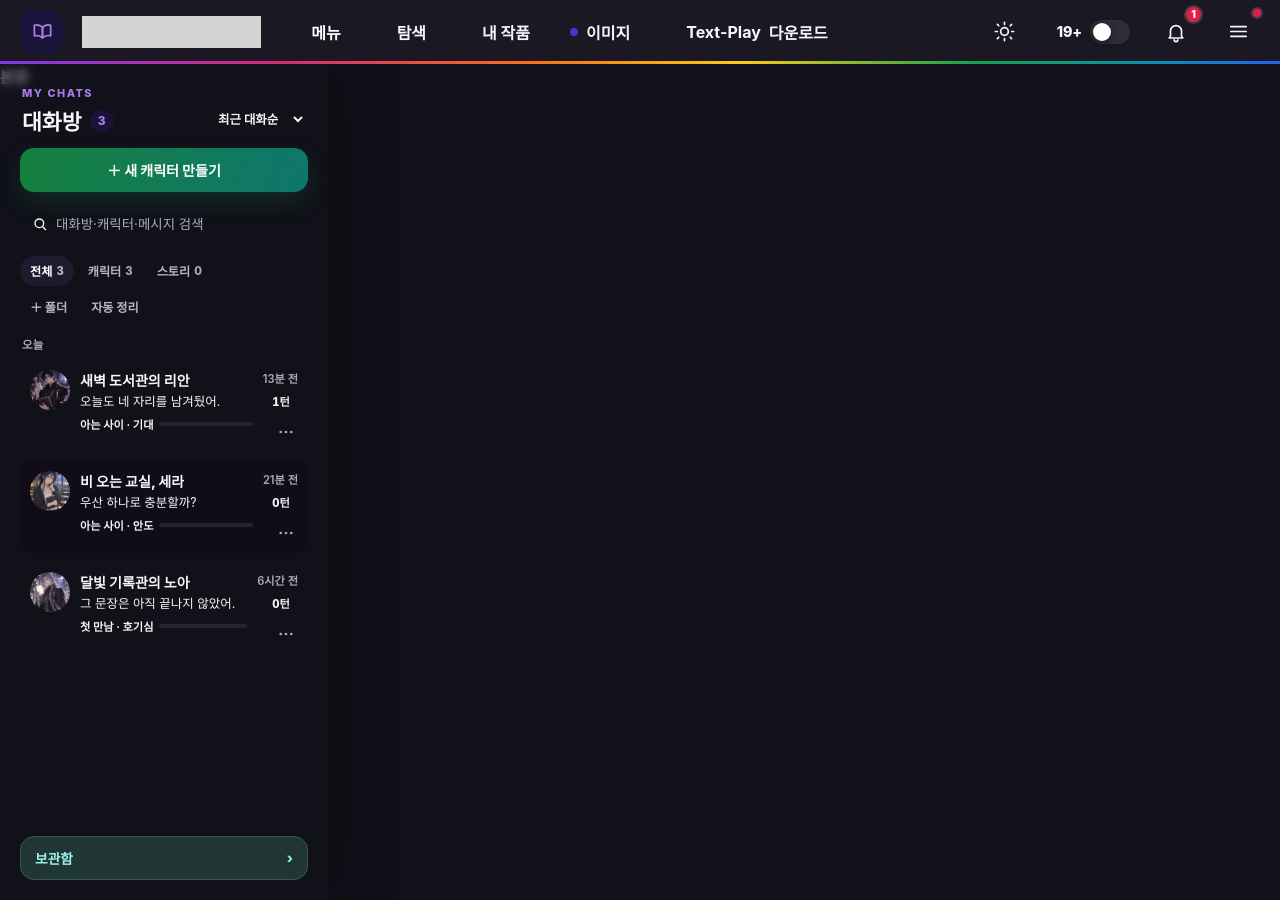
Test case: 왼쪽 대화방 창 › 더보기 메뉴로 대화를 고정하면 고정됨 묶음 맨 위에 두고 다시 해제한다
This screenshot has width=1280, height=900.
Click the button named "달빛 기록관의 노아 더보기" at (286, 634), box [270,620,302,648]
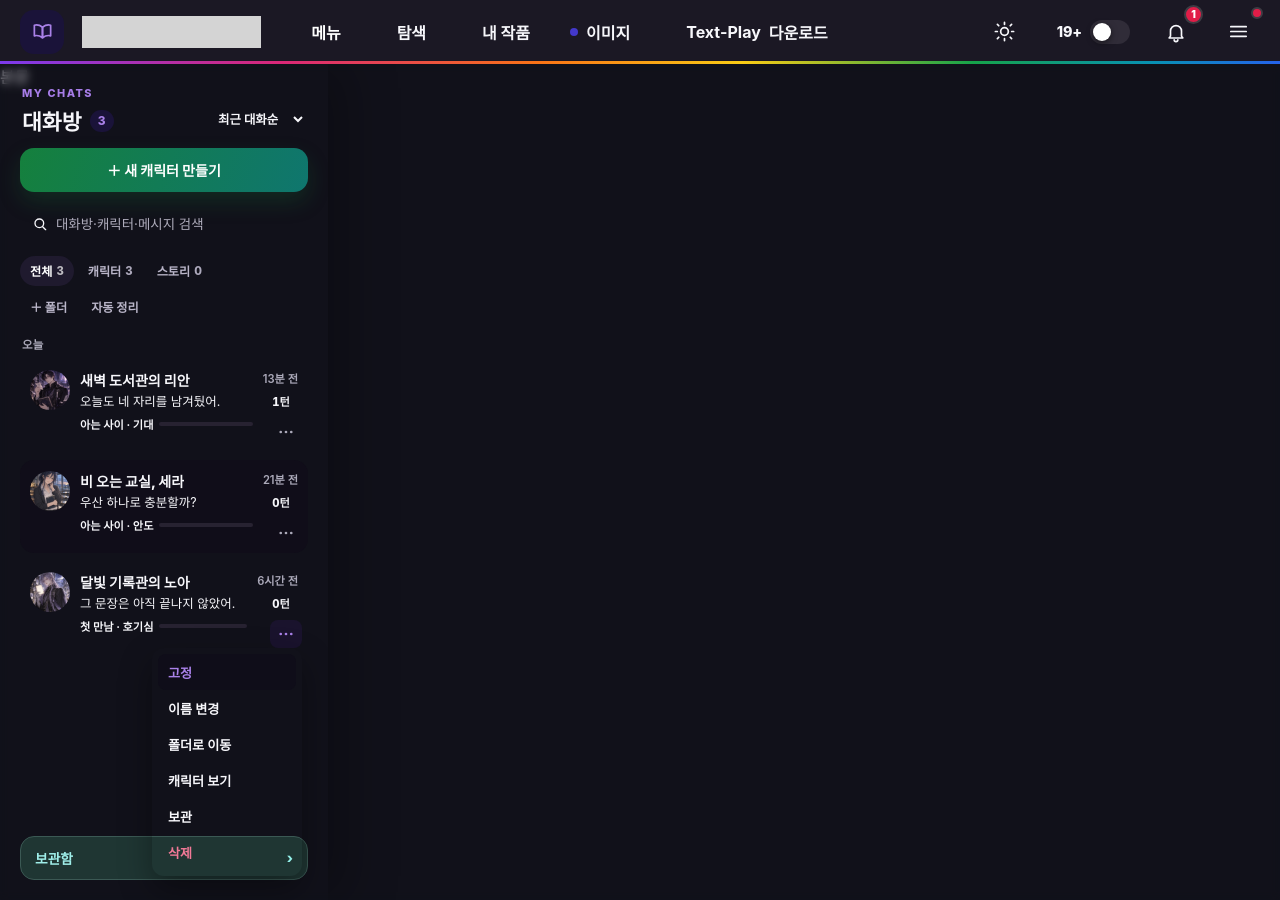
Click the menu item "고정" at (227, 672), box [158,654,296,690]
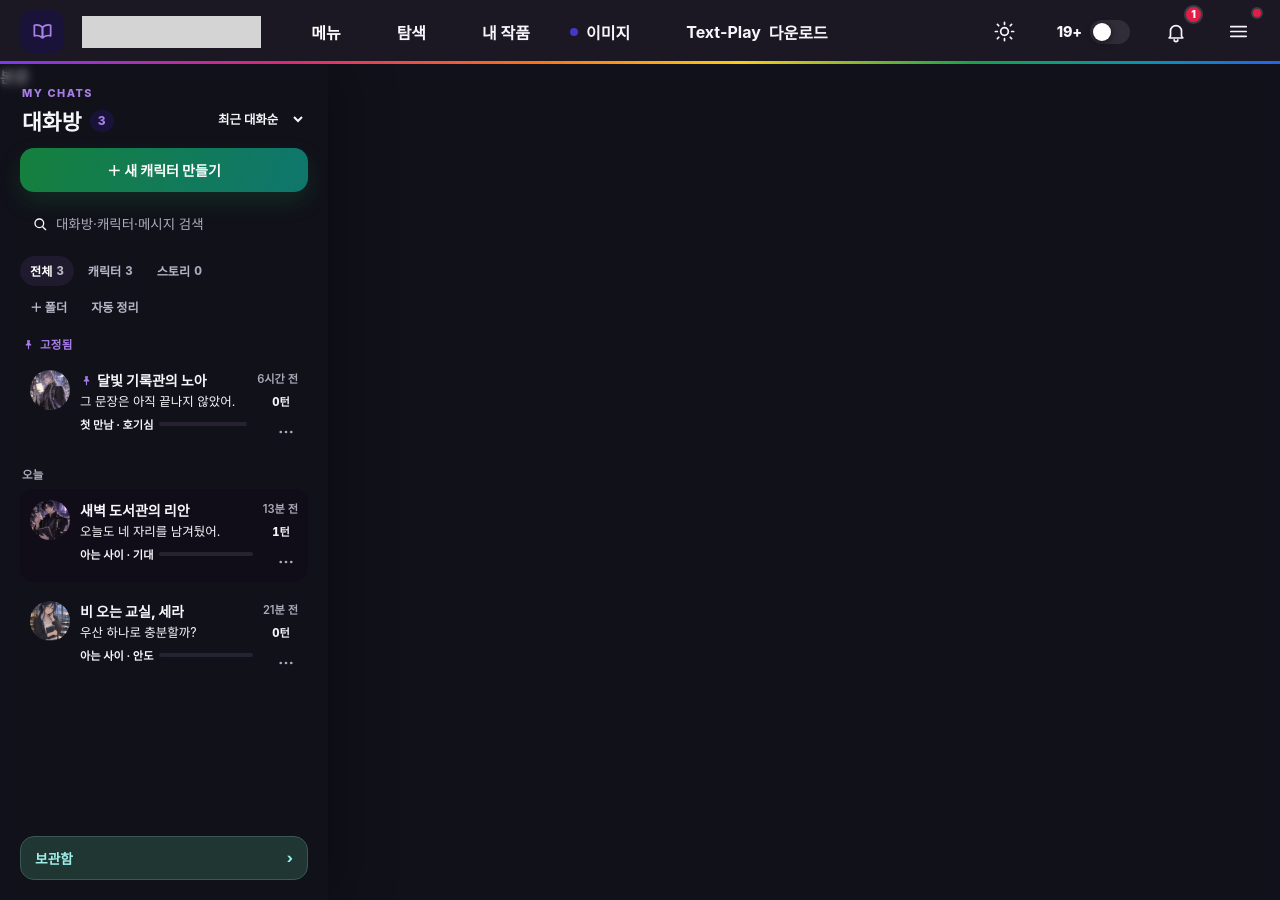
Expected: the text with class "conversation-card-title" reads "달빛 기록관의 노아", [97,372,207,389]
Now the heading "고정됨" is shown, box [22,338,72,352]
Click the button named "달빛 기록관의 노아 더보기" at (286, 432), box [270,418,302,446]
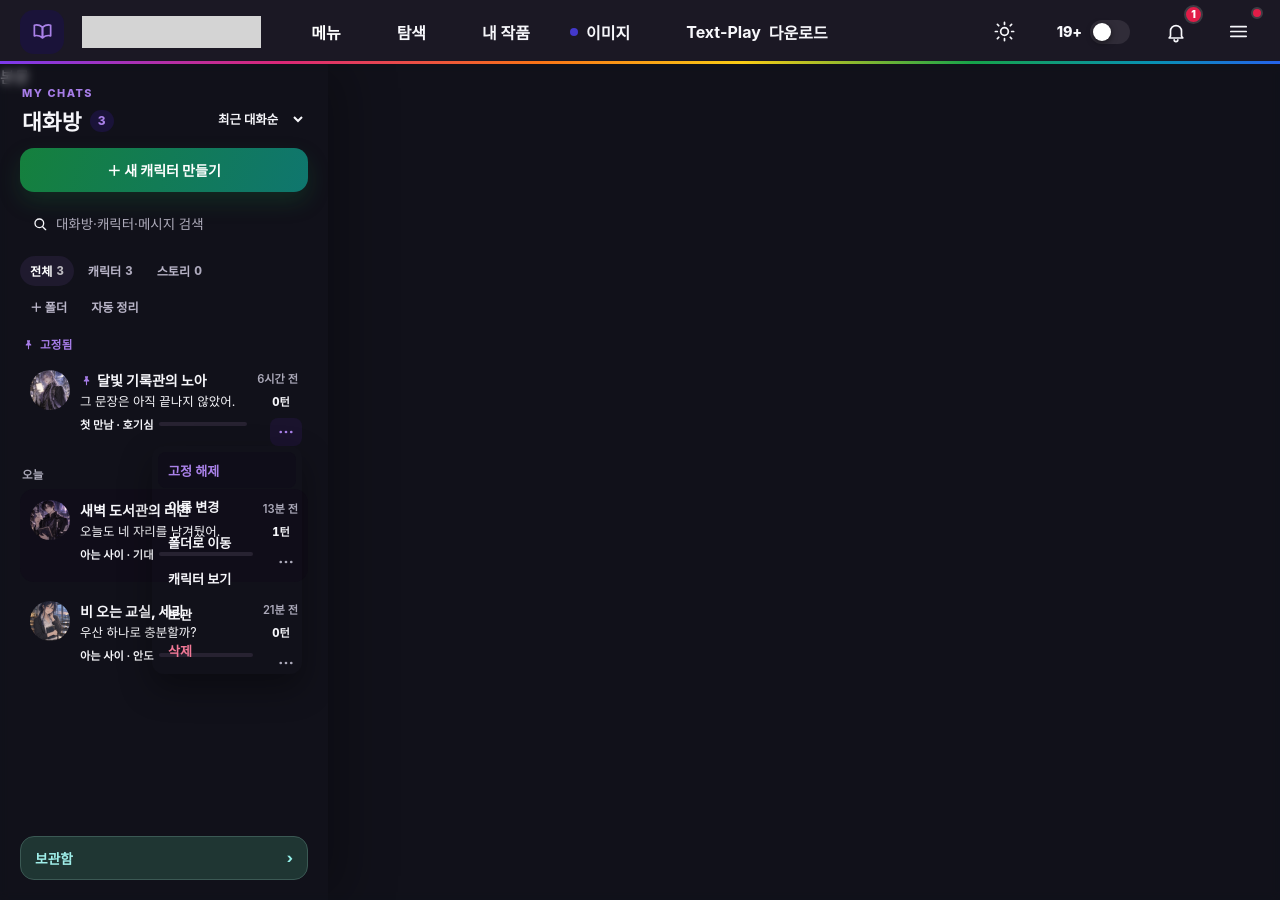
Click the menu item "고정 해제" at (227, 470), box [158,452,296,488]
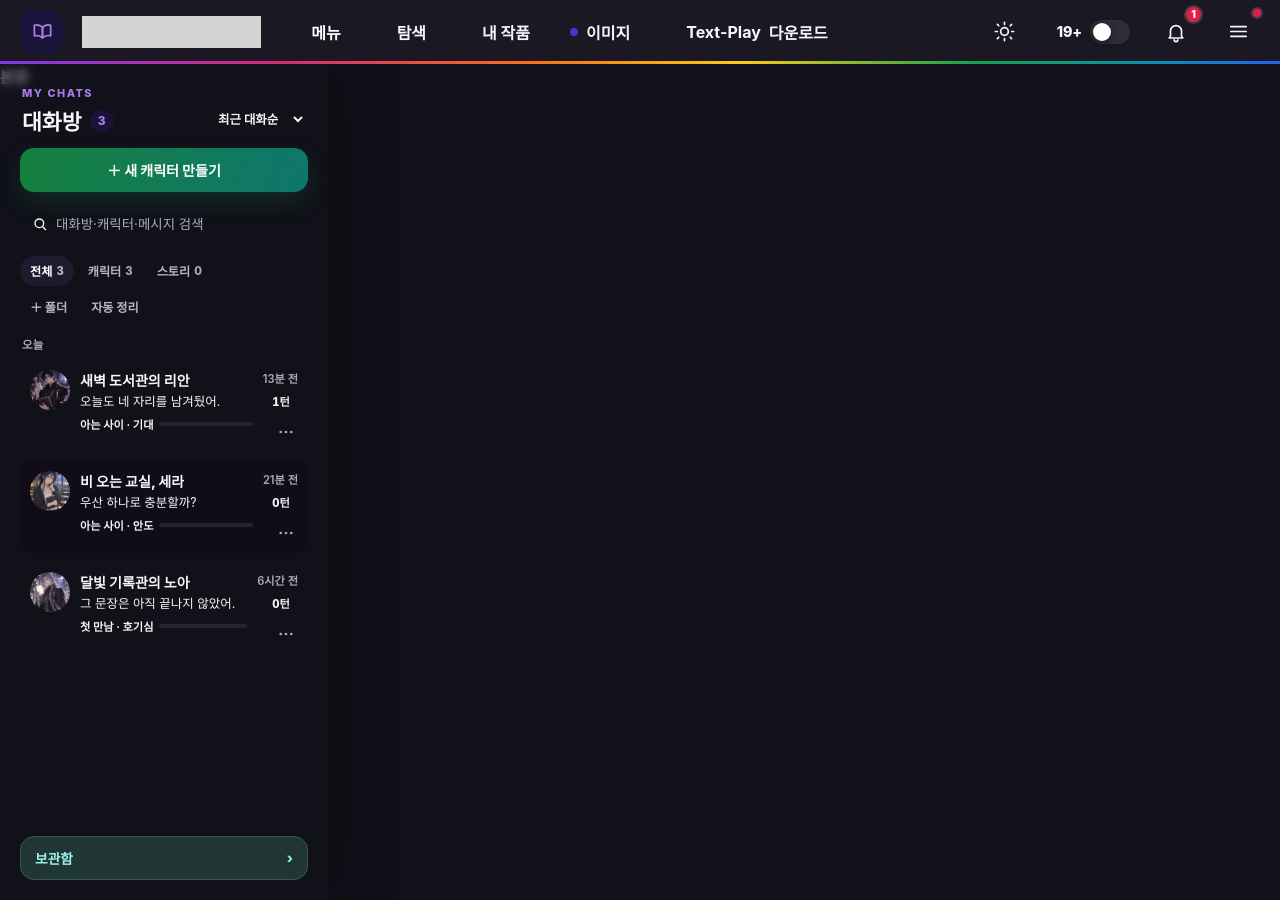
Now the heading "고정됨" is gone
